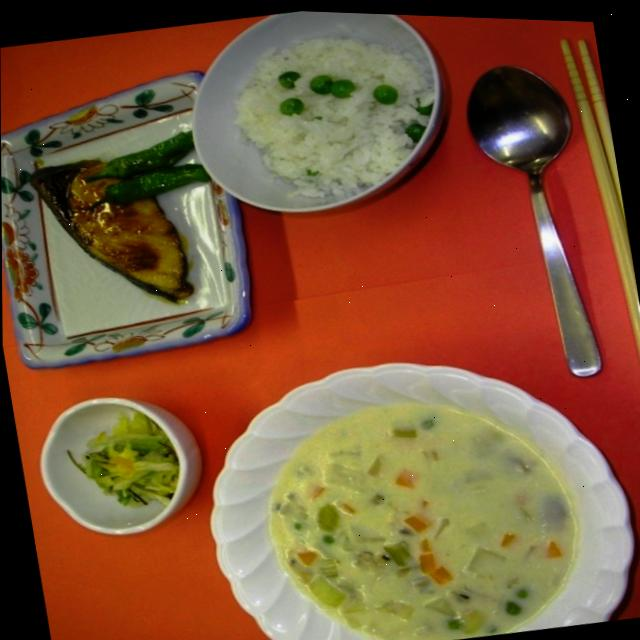熟制海鲜: (24, 125, 222, 317)
